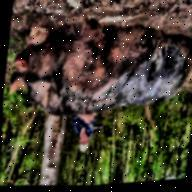boar: (2, 7, 192, 138)
